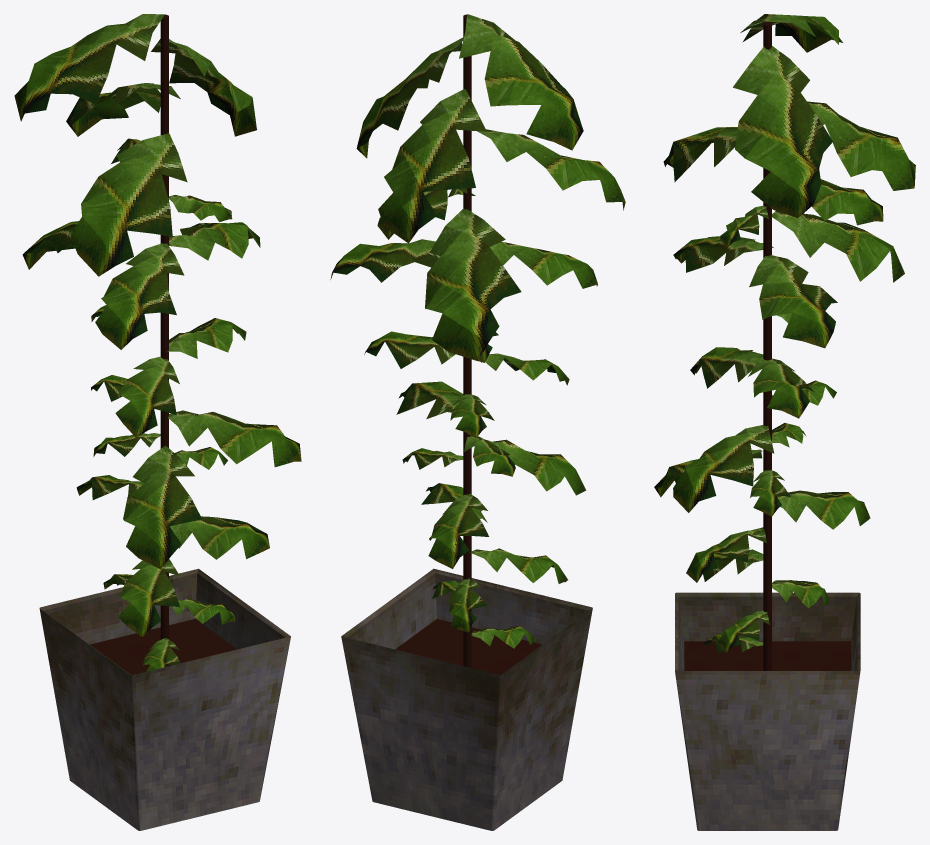
The model's file is SM_Plant.fbx.
3 views of the same model, side by side, from view 1: azimuth 30°, elevation 25°; view 2: azimuth 150°, elevation 25°; view 3: azimuth 270°, elevation 25° (orthographic).
Parts seen in each view (by area): view 1: SM_Plant; view 2: SM_Plant; view 3: SM_Plant.
Boxes of the visible parts, left/top/right/bottom form: SM_Plant: left=14, top=14, right=301, bottom=830; SM_Plant: left=330, top=14, right=625, bottom=830; SM_Plant: left=654, top=14, right=915, bottom=830.
Size of the model in its own units: 45.76 by 141 by 42.88.
